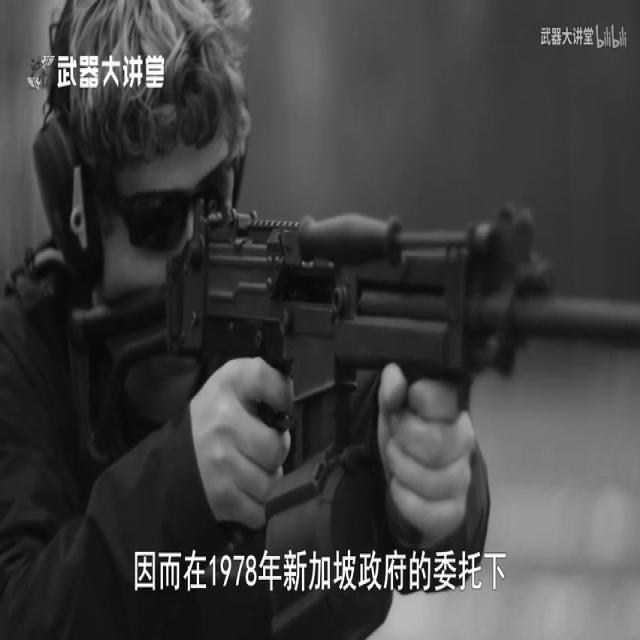Sniper: (19, 137, 640, 640)
